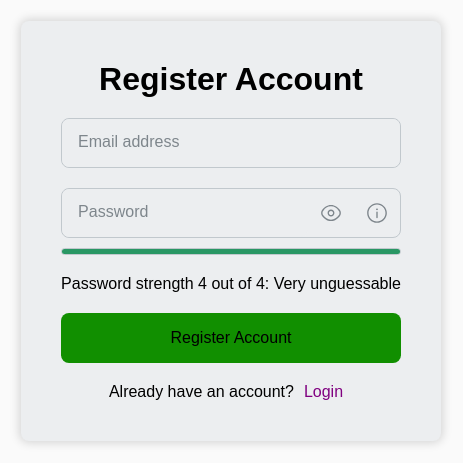
Test case: Functionality › Form; Input validation; "required" errors on empty inputs
Expected: the password field labelled "Password" is shown, [62,189,308,237]
Click the button "Register Account": (231,338) [61,313,401,363]
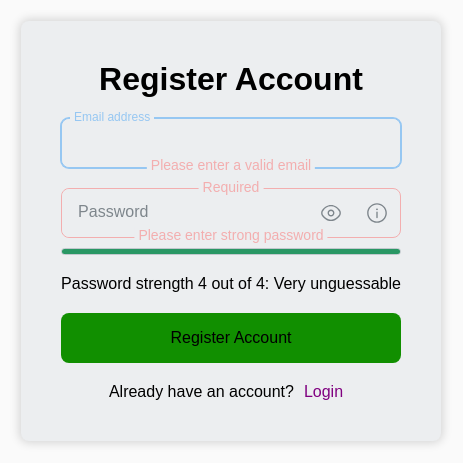
Now the text "Please enter a valid email" is shown, box [147,157,315,173]
Now the text "Please enter strong password" is shown, box [134,227,328,243]
